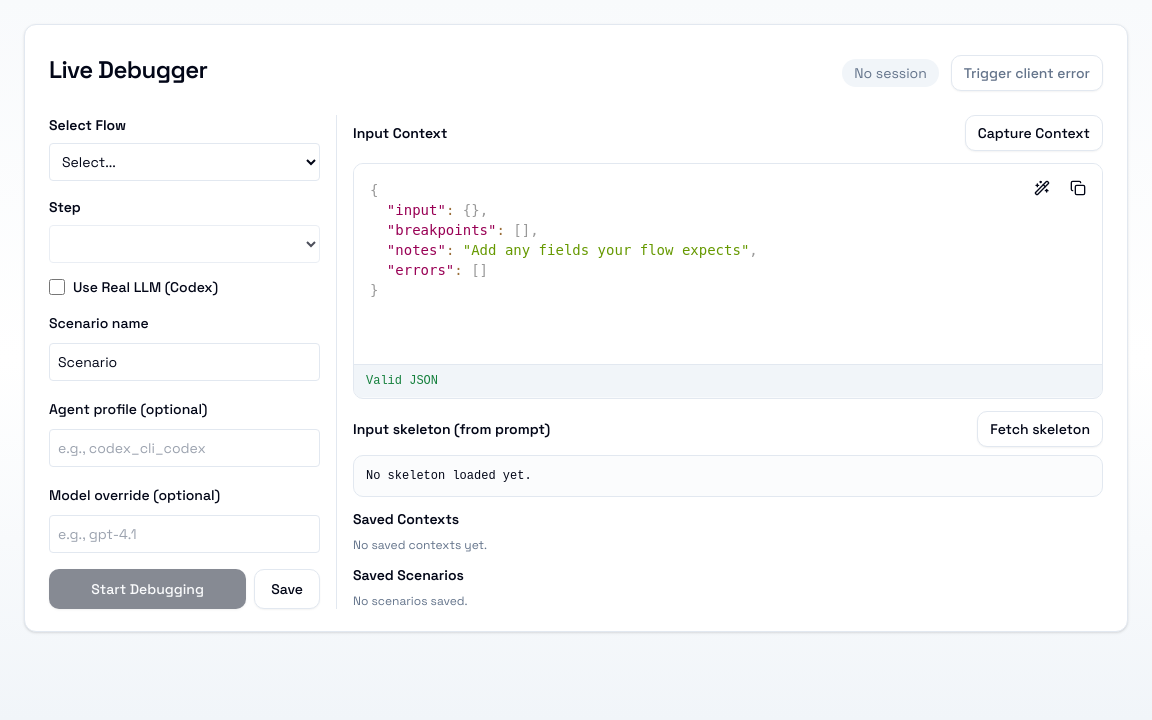
Test: DebugPage input skeleton › fetches and displays input skeleton for the selected step
Select "log_error_handler.yaml" in the dropdown named "Debug Flow" at [184, 162], box left=49, top=143, right=320, bottom=181
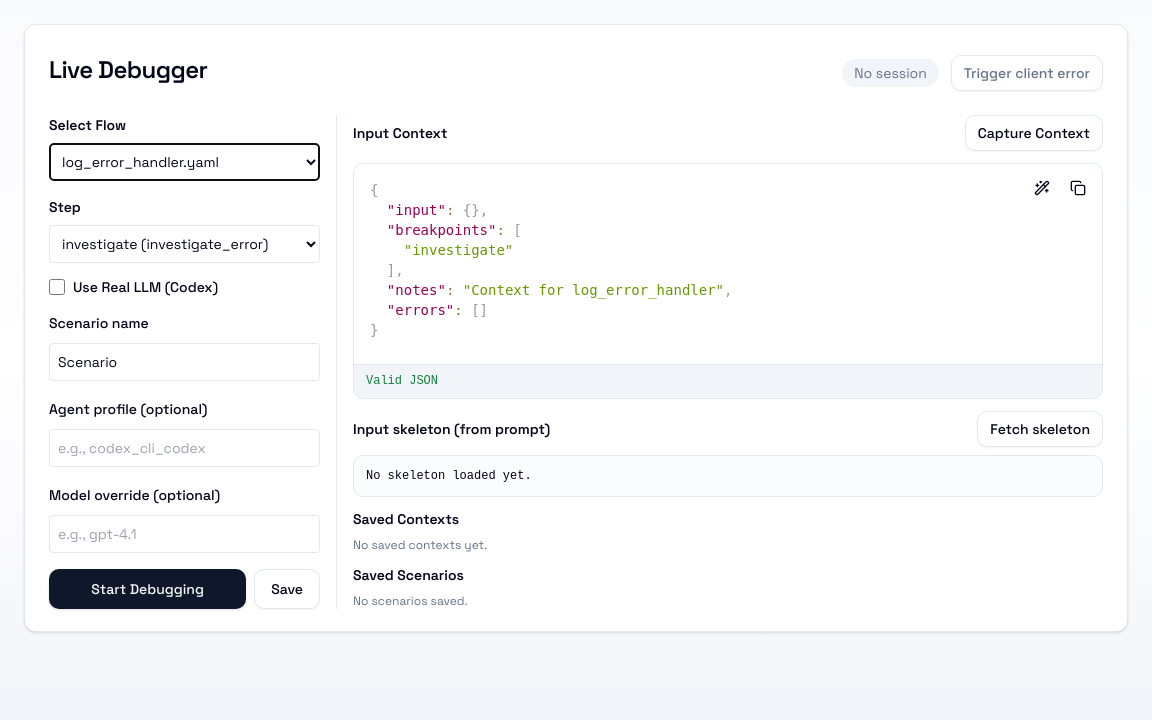
Click the button with test id "fetch-skeleton-btn" at [1040, 429], box left=977, top=411, right=1103, bottom=447
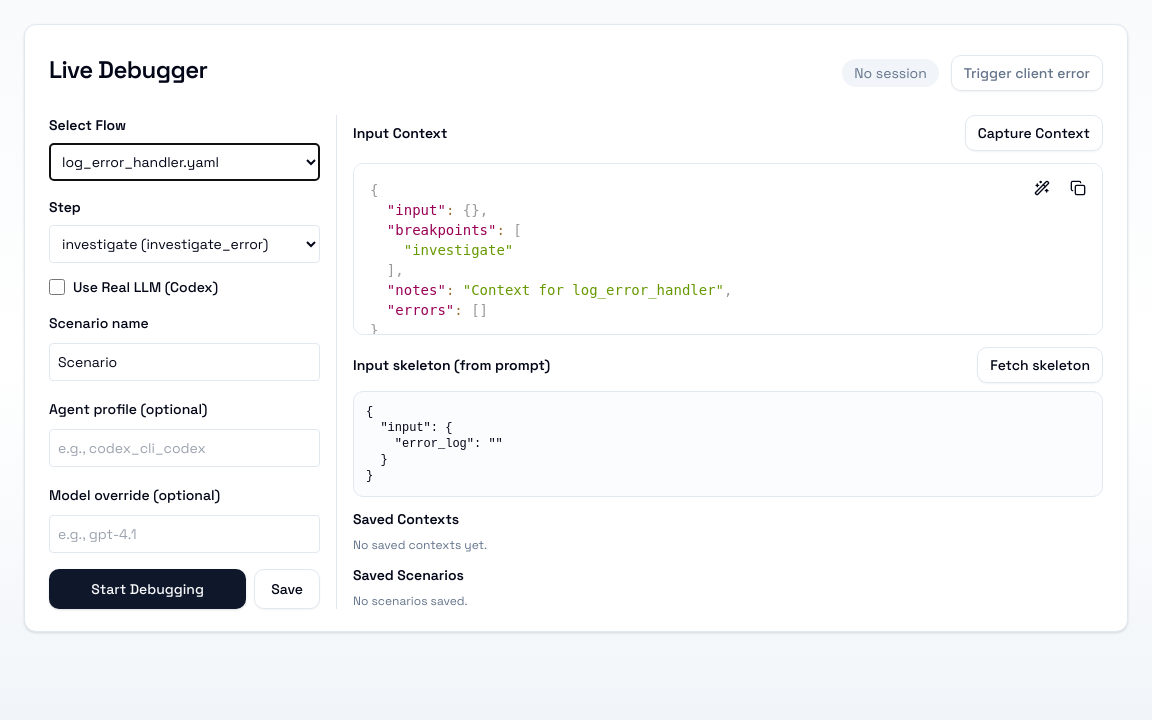
Expected: the text with test id "input-skeleton" shows "\"error_log\"", left=366, top=405, right=503, bottom=483
